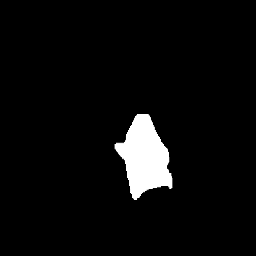mass: (121, 111, 172, 194)
